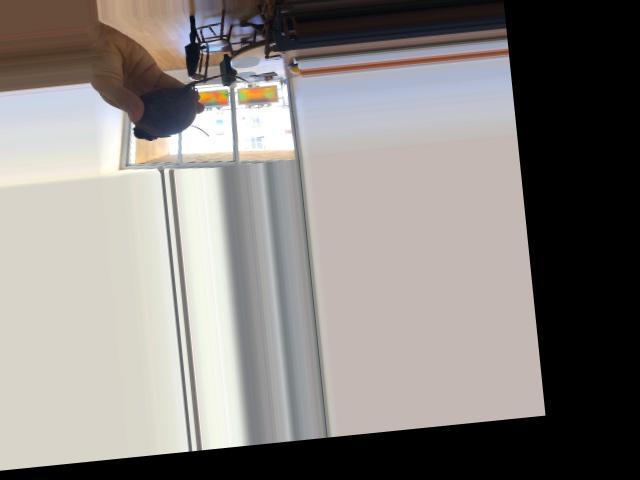beet: (129, 72, 253, 142)
